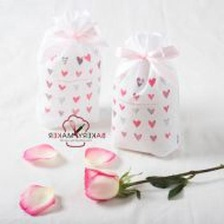snack: (103, 24, 189, 162), (30, 0, 111, 134)
